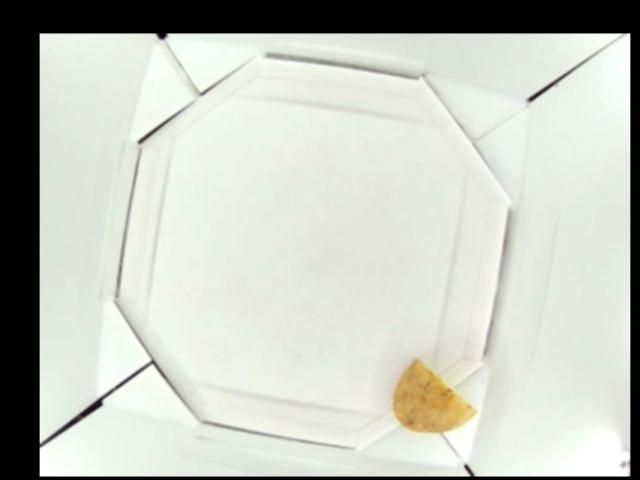Potato: (394, 354, 476, 433)
